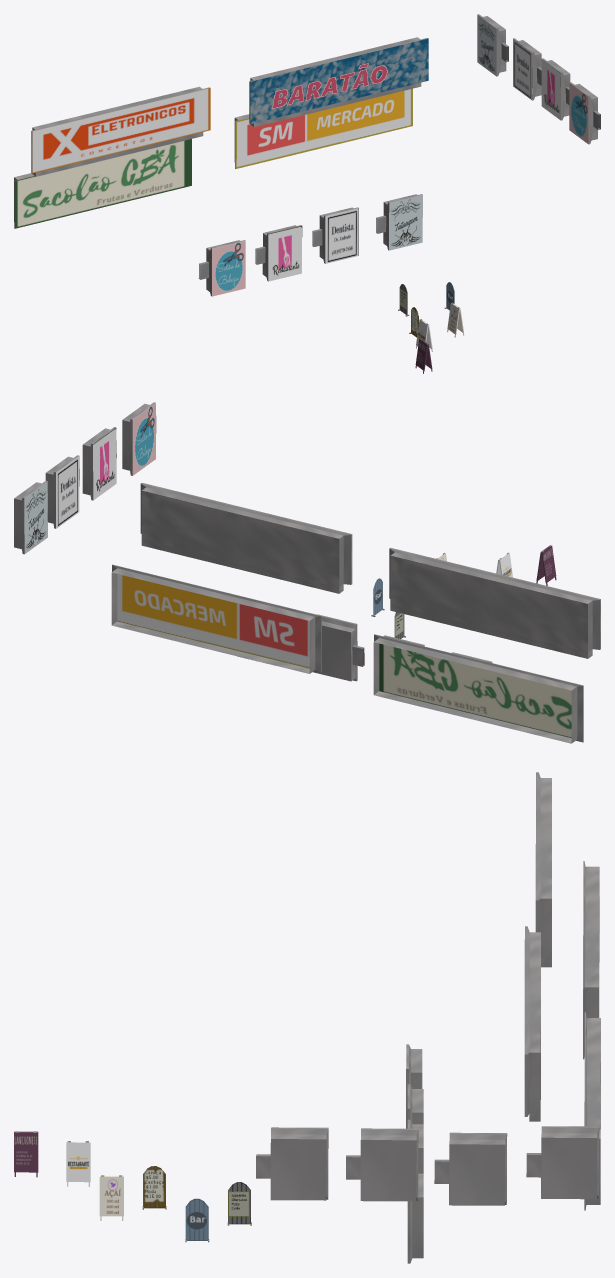
Rendered from placa_mod.fbx.
The picture shows the model from 3 angles, top to bottom: view 1: azimuth 30°, elevation 25°; view 2: azimuth 150°, elevation 25°; view 3: azimuth 270°, elevation 25°; orthographic projection. The views are drawn at different scales.
Parts seen in each view (by area): view 1: pg-eletronicos, pg-baratao, pg-sacolão, pg-supermercado, pe-salao, pe-tatoo, pe-dentista, pe-restaurante, pd-tatoo, pd-salao, pd-restaurante, pd-dentitsta; view 2: pg-baratao, pg-eletronicos, pg-supermercado, pg-sacolão, pe-dentista, pd-restaurante, pd-salao, pd-tatoo, pd-dentitsta, pp-lanchonete; view 3: pd-restaurante, pd-salao, pd-tatoo, pd-dentitsta, pg-baratao, pg-eletronicos, pg-sacolão, pg-supermercado, pe-tatoo, pp-lanchonete, pp-acai, pp-restaurante (+4 smaller).
Boxes of the visible parts, x1,y1,x2,y2 form: pg-eletronicos: (31, 86, 210, 176); pg-baratao: (249, 37, 428, 127); pg-sacolão: (14, 139, 191, 228); pg-supermercado: (234, 88, 412, 168); pe-salao: (198, 240, 245, 296); pe-tatoo: (376, 194, 422, 250); pe-dentista: (312, 207, 358, 263); pe-restaurante: (255, 225, 302, 281); pd-tatoo: (477, 14, 508, 76); pd-salao: (569, 82, 600, 144); pd-restaurante: (541, 58, 570, 120); pd-dentitsta: (513, 38, 541, 100); pg-baratao: (140, 483, 352, 593); pg-eletronicos: (389, 547, 600, 658); pg-supermercado: (111, 564, 321, 673); pg-sacolão: (373, 634, 583, 743); pe-dentista: (313, 614, 364, 681); pd-restaurante: (82, 427, 116, 500); pd-salao: (122, 402, 156, 475); pd-tatoo: (14, 481, 48, 554); pd-dentitsta: (45, 455, 79, 528); pp-lanchonete: (536, 545, 556, 585); pd-restaurante: (346, 1128, 418, 1201); pd-salao: (256, 1127, 328, 1200); pd-tatoo: (526, 1126, 599, 1199); pd-dentitsta: (434, 1132, 507, 1205); pg-baratao: (524, 926, 540, 1121); pg-eletronicos: (535, 772, 551, 967); pg-sacolão: (583, 861, 599, 1059); pg-supermercado: (584, 1012, 600, 1210); pe-tatoo: (407, 1173, 423, 1263); pp-lanchonete: (14, 1131, 38, 1177); pp-acai: (99, 1175, 123, 1220); pp-restaurante: (66, 1141, 90, 1186).
Bounding box in the file's own units: 1061 × 367 × 759.
